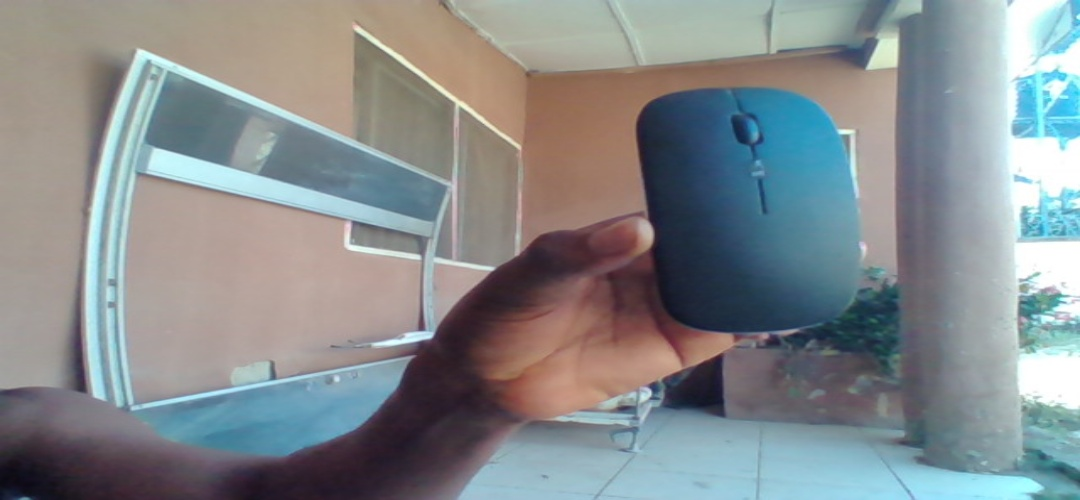wireless_mouse: (640, 85, 860, 334)
